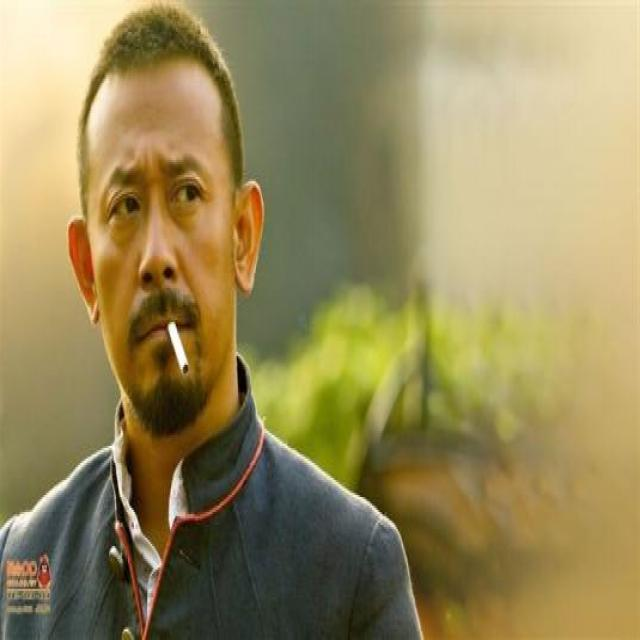smoking: (164, 309, 196, 386)
